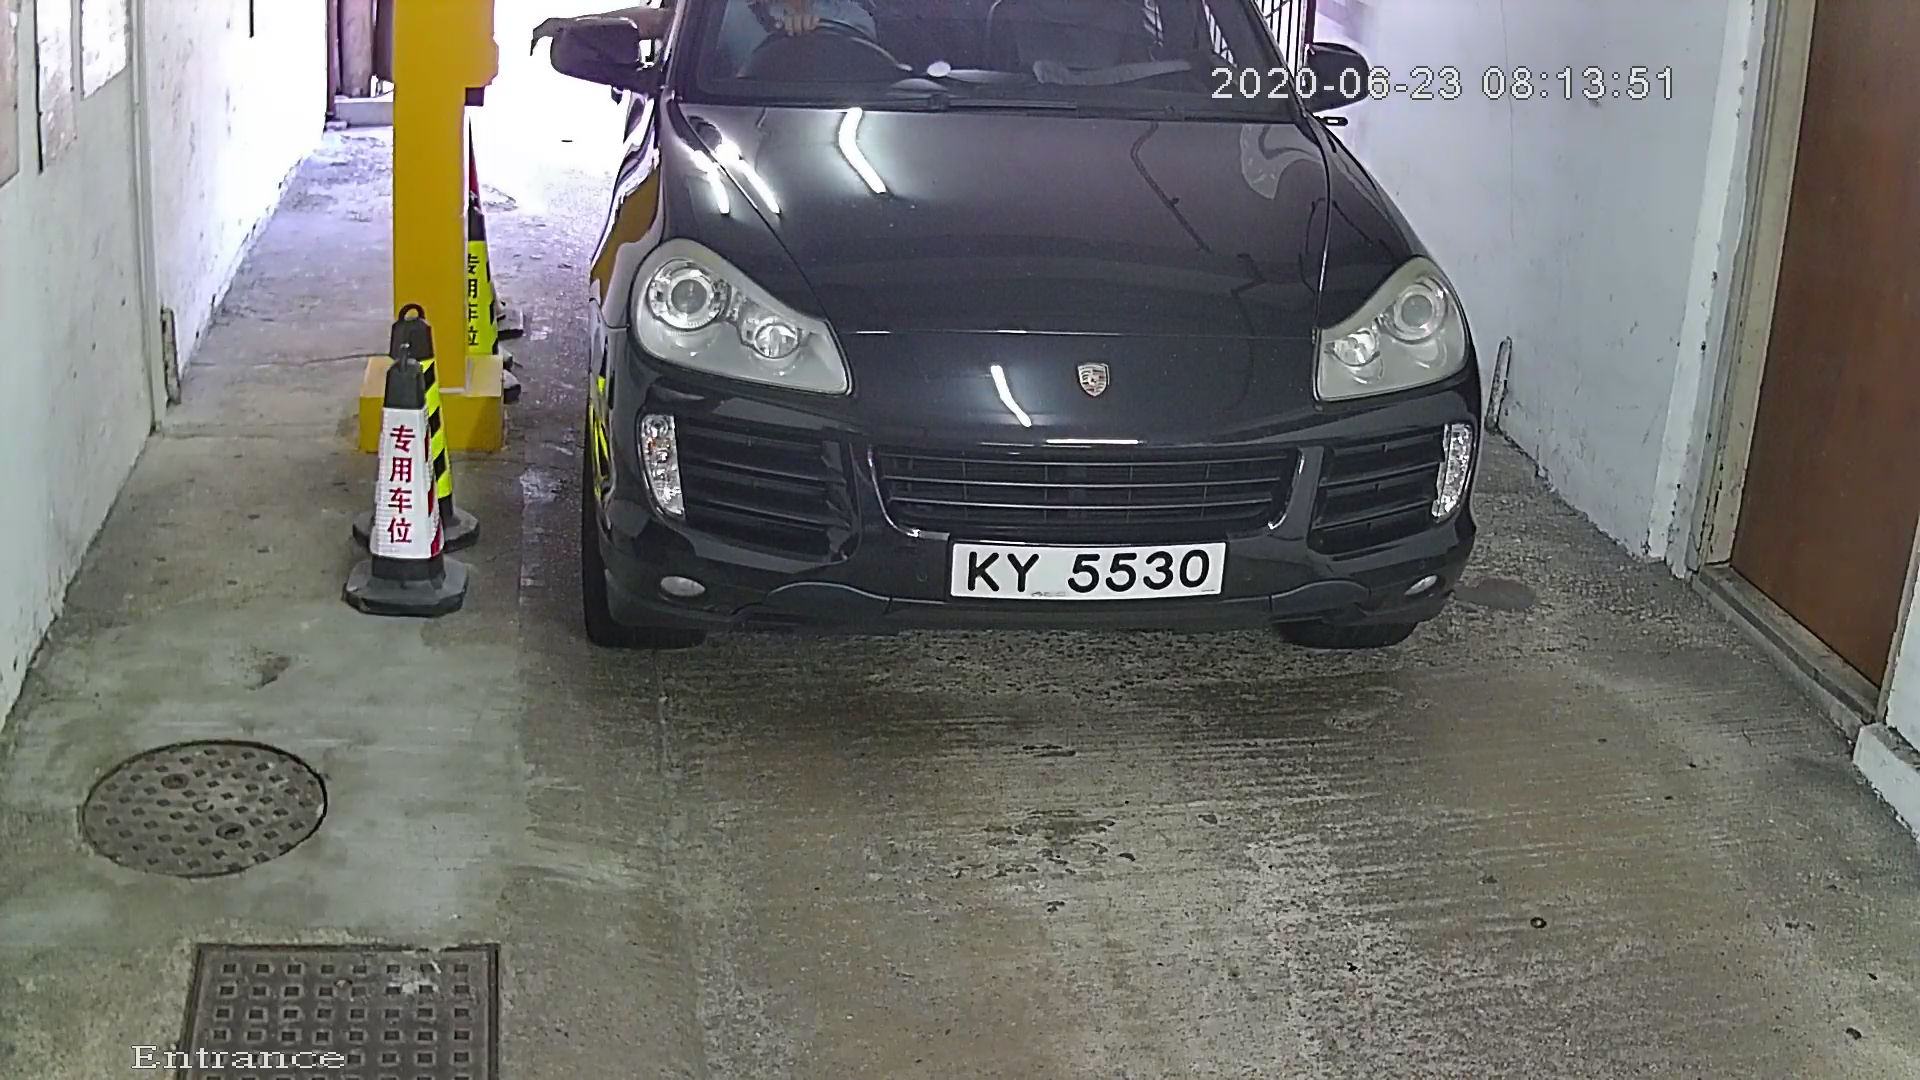privatecar: (571, 3, 1499, 713)
